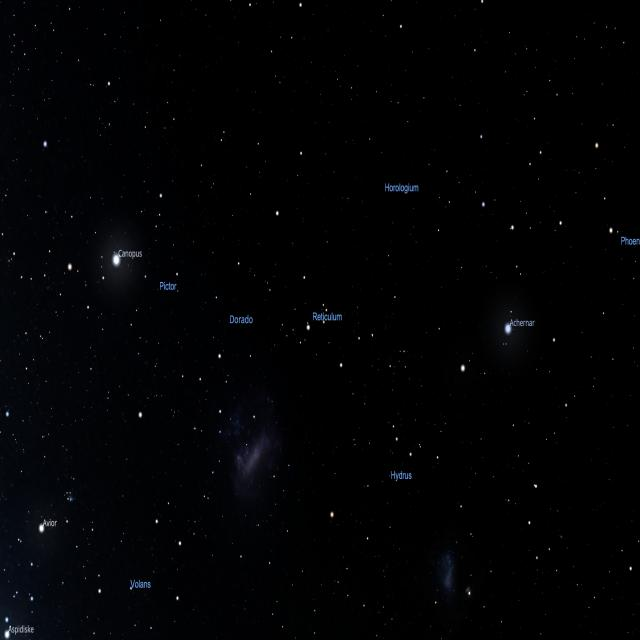Reticulum: (301, 271, 346, 375)
